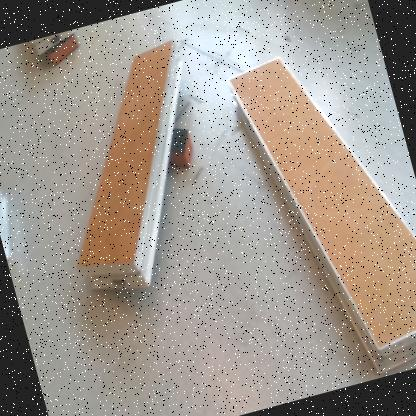Stairs: (225, 54, 416, 376), (76, 37, 186, 292), (33, 30, 75, 56), (1, 185, 10, 261)
